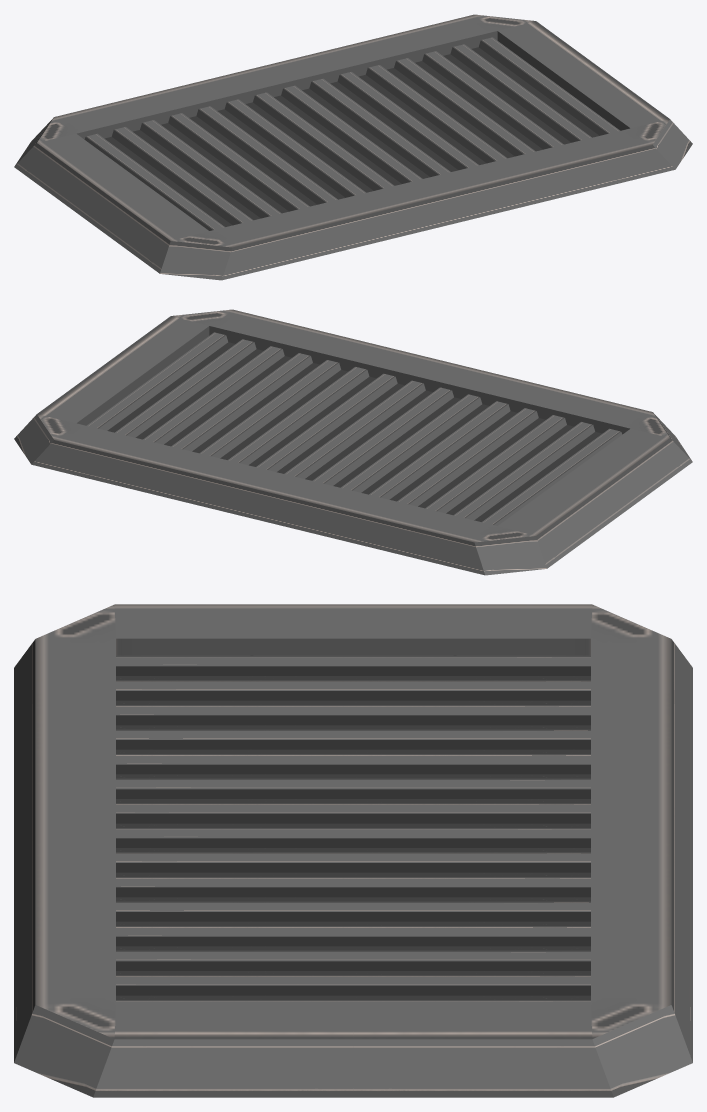
Rendered from quaternius-scifi-vent-small.glb.
3 views of the same model, one above another, from view 1: azimuth 30°, elevation 25°; view 2: azimuth 150°, elevation 25°; view 3: azimuth 270°, elevation 25° (orthographic). The views are drawn at different scales.
Parts seen in each view (by area): view 1: Prop_Vent_Small; view 2: Prop_Vent_Small; view 3: Prop_Vent_Small.
Part boxes in pixels (x1=…): Prop_Vent_Small: x1=14, y1=14, x2=692, y2=280; Prop_Vent_Small: x1=14, y1=309, x2=692, y2=575; Prop_Vent_Small: x1=14, y1=604, x2=692, y2=1097.
Size of the model in its own units: 1 by 0.0438 by 0.6183.
Materials: 3 (2 with a texture image).
